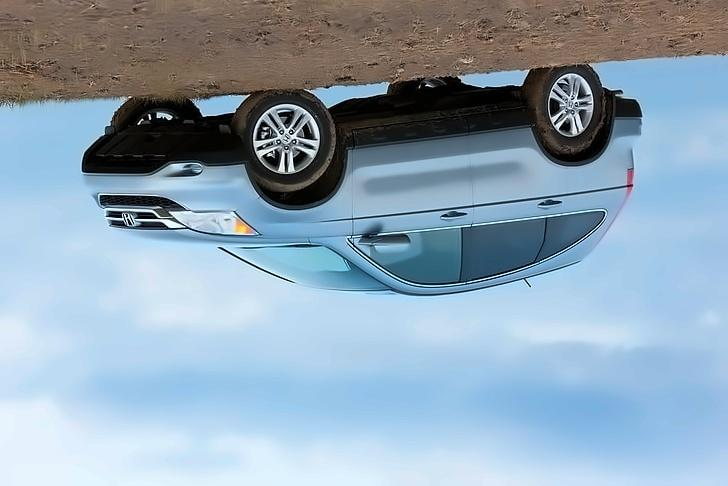Car hood: (113, 225, 311, 248)
Driver-s door - -F-R-: (341, 85, 472, 296)
Fender - -F-R-: (238, 125, 356, 254)
Fender - -R-R-: (514, 118, 634, 215)
Front bumper: (76, 115, 265, 216)
Headlight - -R-: (168, 207, 261, 237)
Passenger-s door - -R-R-: (446, 82, 558, 300)
Rear bumper: (602, 76, 645, 153)
Side bumper - -R-: (342, 89, 545, 183)
Side mirror - -R-: (360, 228, 408, 259)
